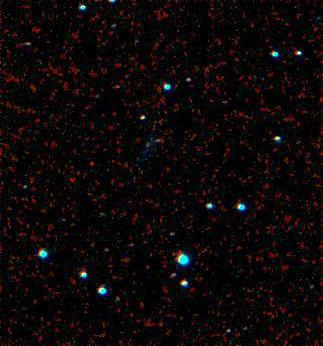star: (75, 153, 105, 183)
